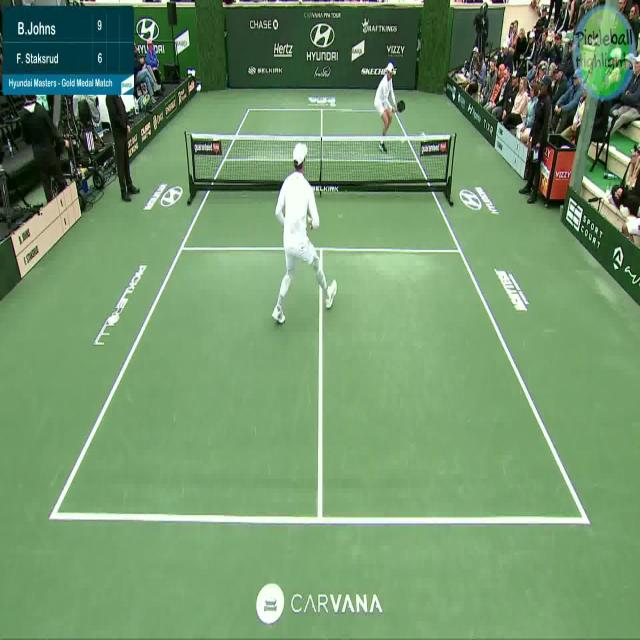Court: (53, 107, 586, 521)
